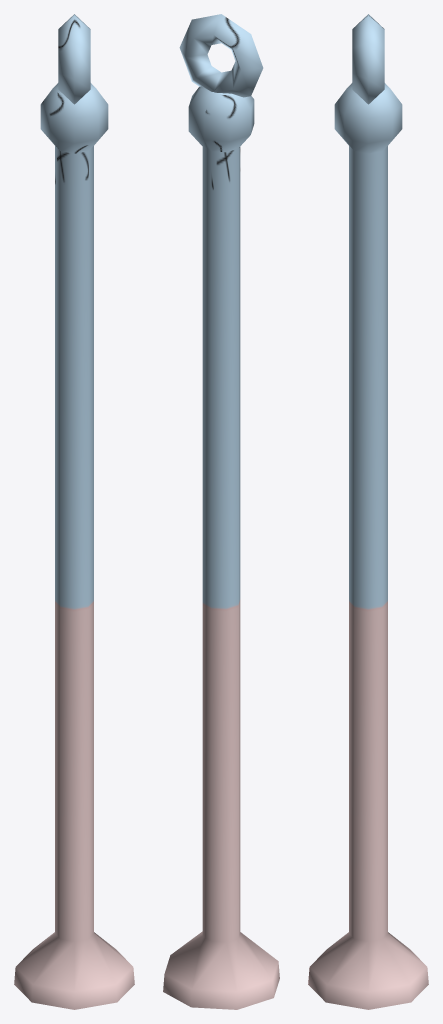
Rendered from SM_Pole.fbx.
3 renders of one model, left to right at view 1: azimuth 90°, elevation 25°; view 2: azimuth 150°, elevation 25°; view 3: azimuth 270°, elevation 25°, orthographic.
Parts seen in each view (by area): view 1: SM_pole; view 2: SM_pole; view 3: SM_pole.
Part boxes in pixels (x1,y1,x2,y2): SM_pole: (14, 14, 134, 1009); SM_pole: (163, 14, 279, 1009); SM_pole: (308, 14, 428, 1009).
Bounding box in the file's own units: 39.54 × 350 × 39.54.
